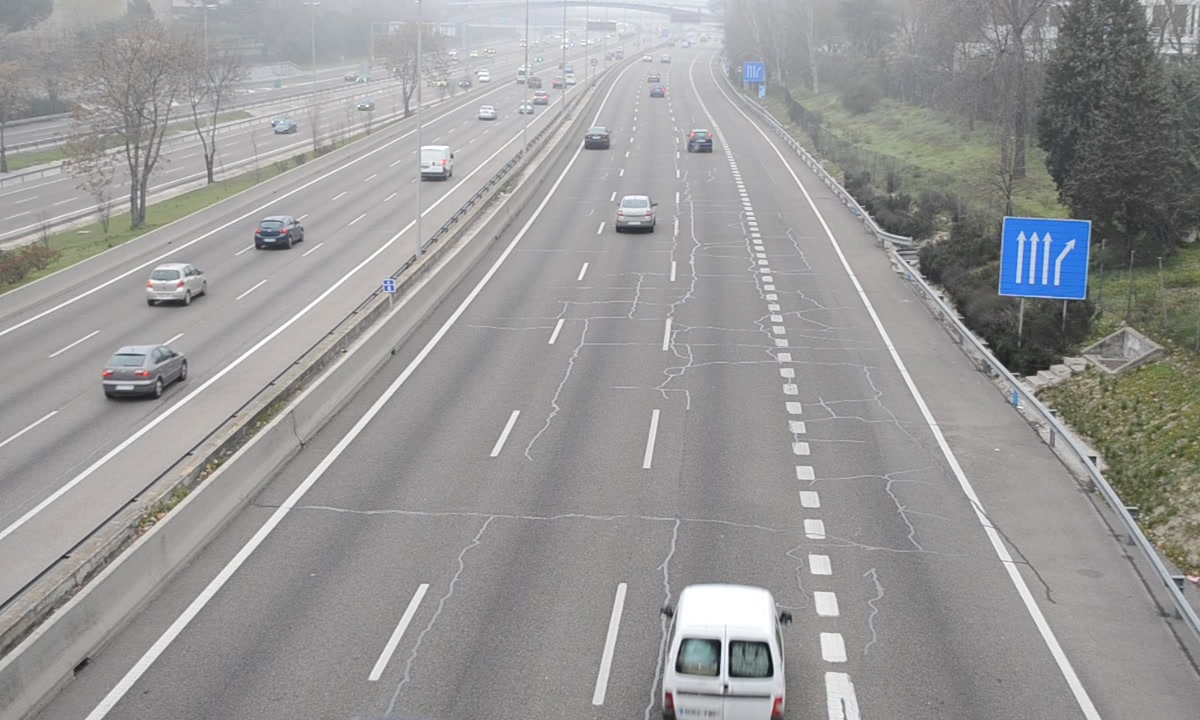car: (616, 194, 656, 231), (585, 125, 612, 151), (687, 128, 713, 152)
van: (663, 584, 785, 720)
